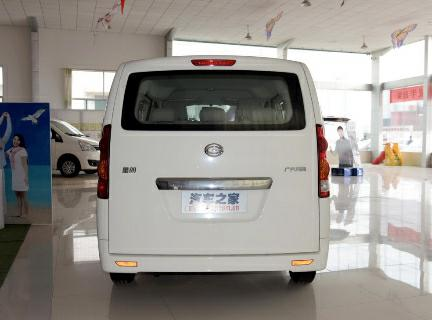广汽吉奥-星朗: (88, 50, 336, 289)
